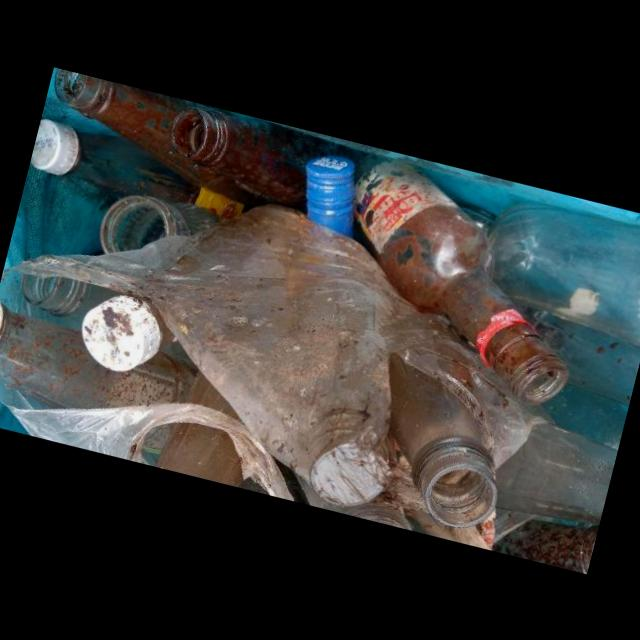chai_thuy_tinh: (353, 160, 569, 402), (63, 69, 276, 208), (30, 118, 244, 218), (0, 301, 196, 408), (388, 352, 498, 528), (171, 107, 327, 208), (155, 371, 264, 487), (495, 422, 617, 525), (98, 194, 221, 253), (78, 295, 167, 373), (19, 273, 124, 317)
